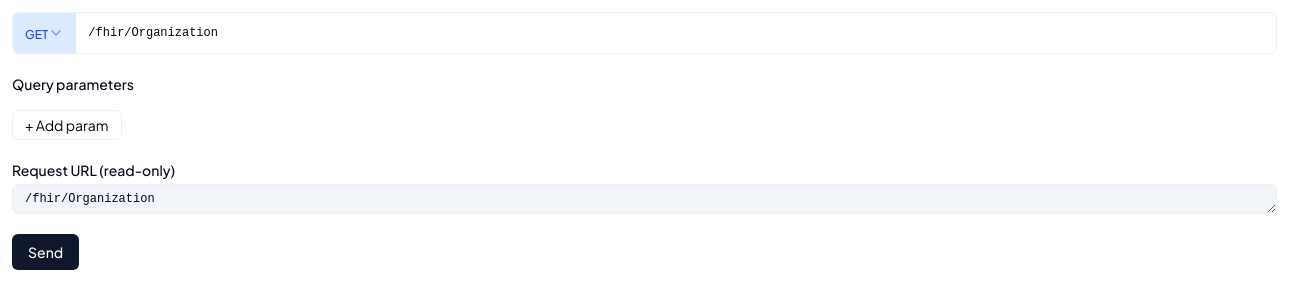
Scenario: AdminRequestBuilder › Endpoint input › shows suggestion list on focus
Click the field named "endpoint".
click(676, 33)  # box [76,13,1276,53]
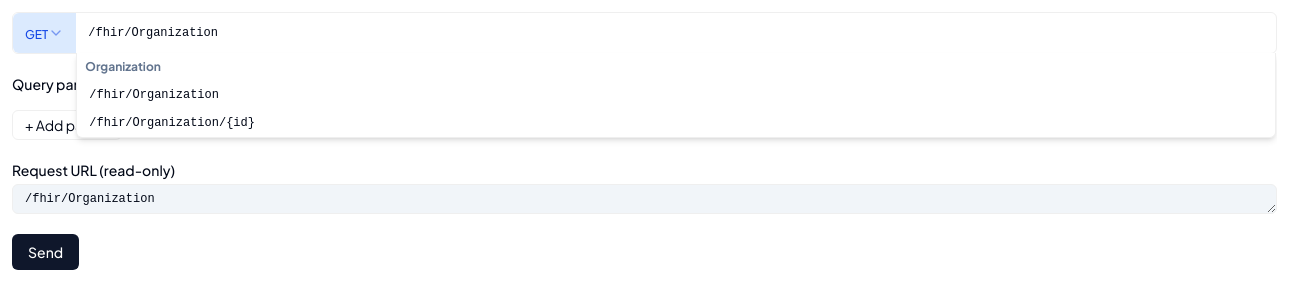
expect the text "Organization" is shown: met, box [85,59,161,74]
